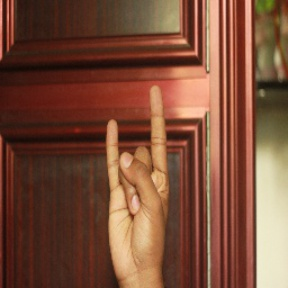V: (103, 83, 176, 273)
